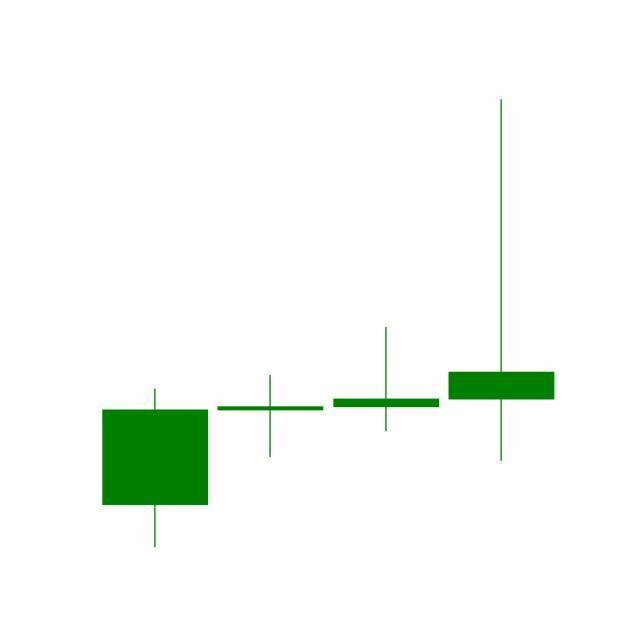Spinning Top: (444, 96, 560, 466)
